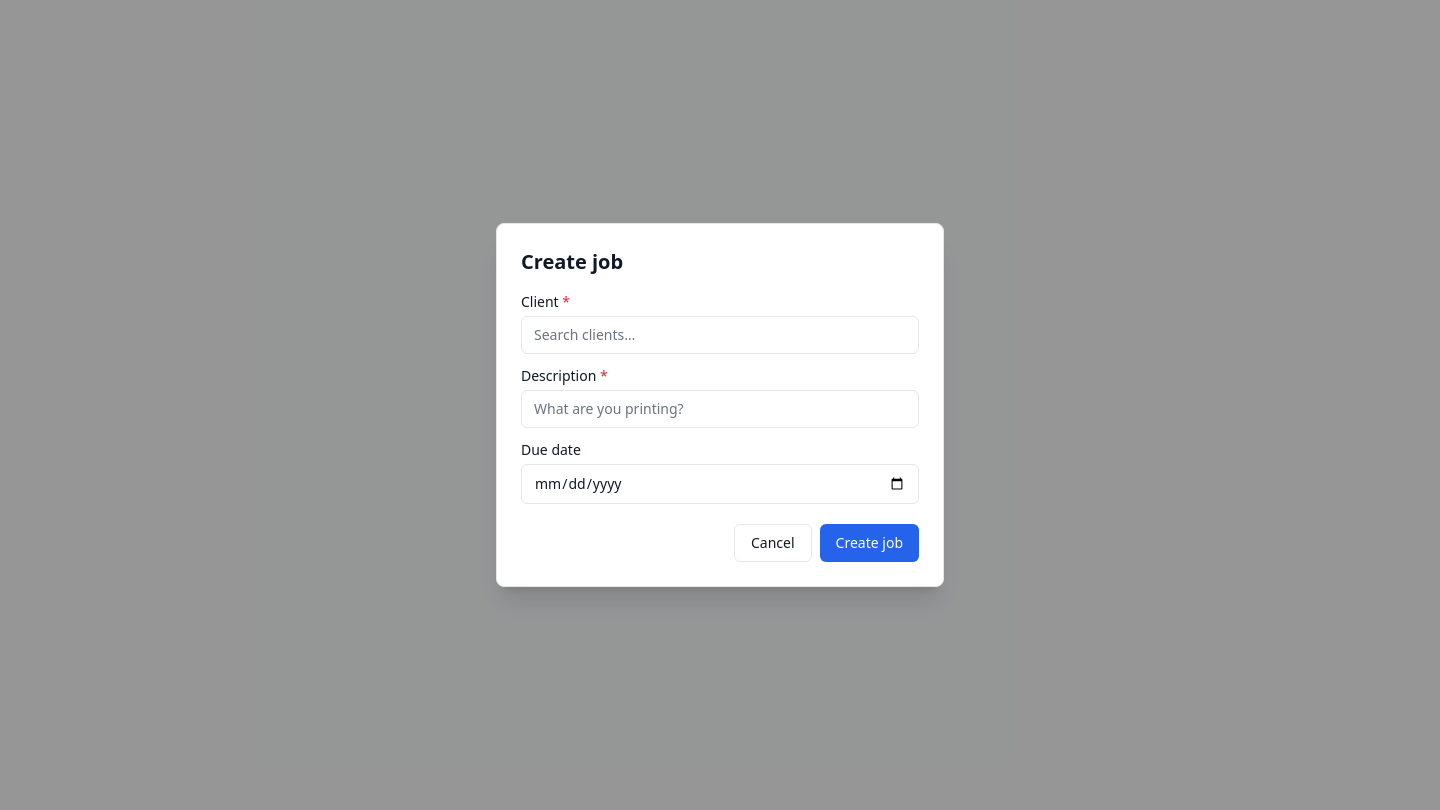
CreateJobDialog › offers only active clients
Click the dropdown with placeholder "Search clients…" at [720, 335], box [521,316,919,354]
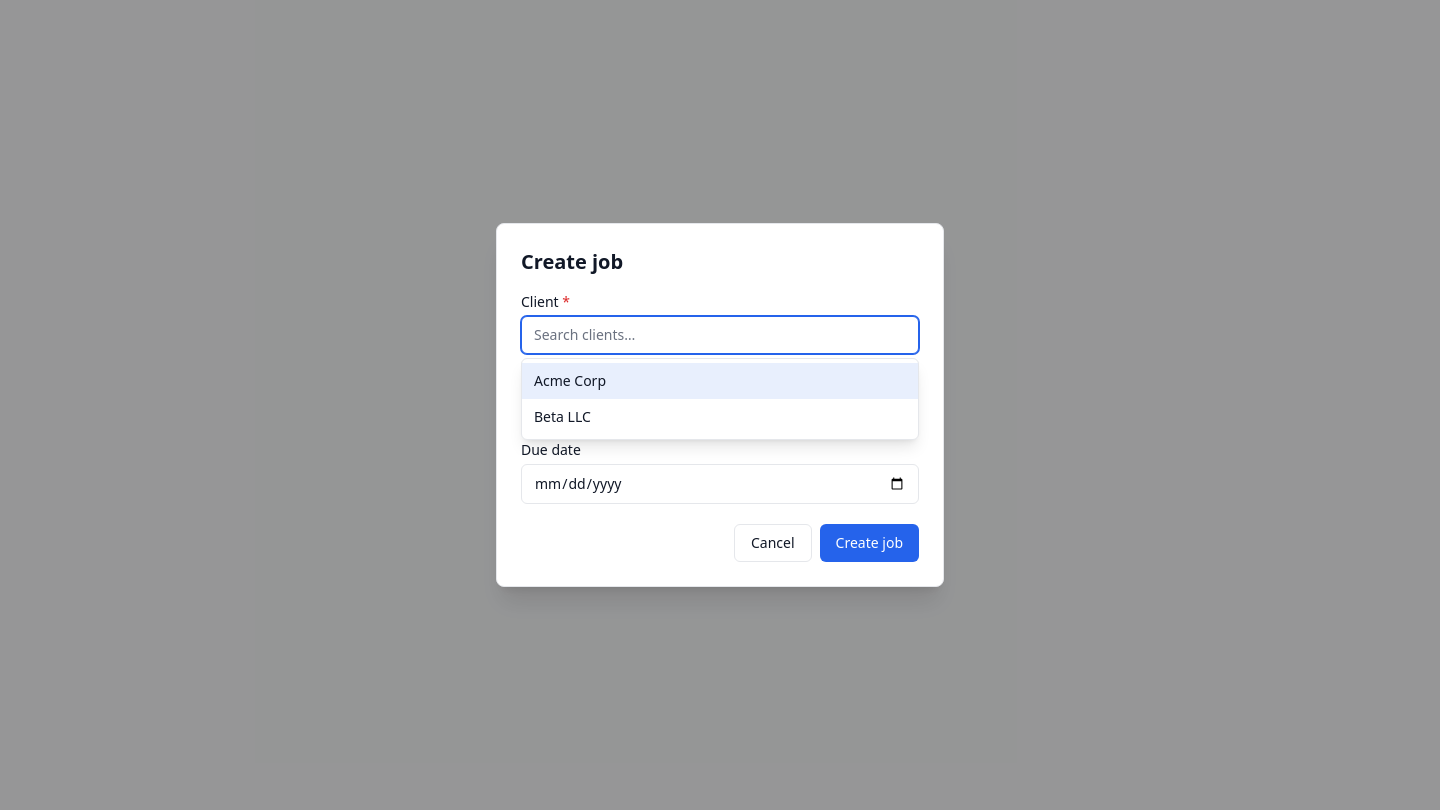
Expected: the options read "Acme Corp", "Beta LLC", in this order, [522,363,918,399]; [534,407,591,426]
